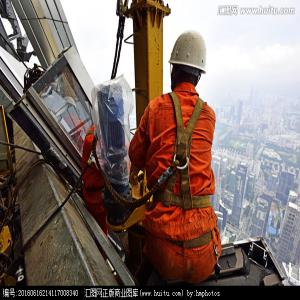white: (168, 28, 210, 92)
